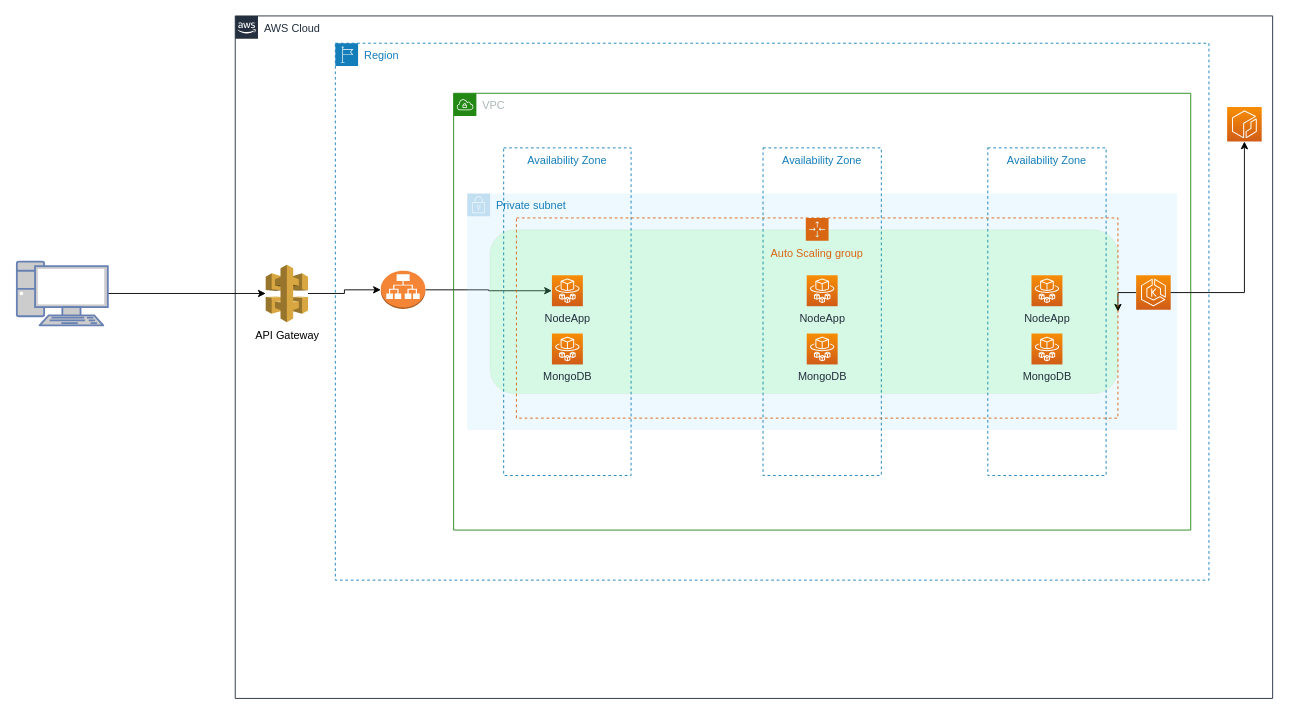
Image size: 1293x714. Some labels were removed from this diagram. Here are the shapes that lost their labels. From the top down, the centre of each, then its label:
At pixel 1244 124: "Amazon ECR".
At pixel 61 293: "Application".
At pixel 402 289: "Aplication load balancer".
At pixel 1153 292: "Amazon EKS".
